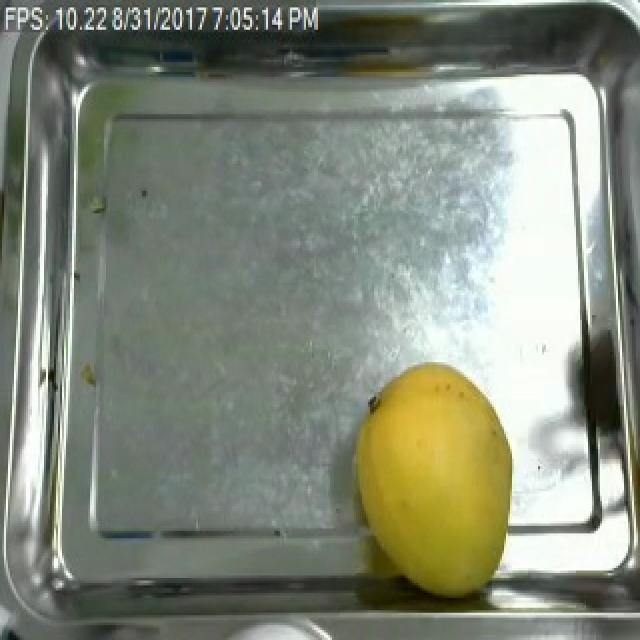fruit: (340, 355, 526, 610)
